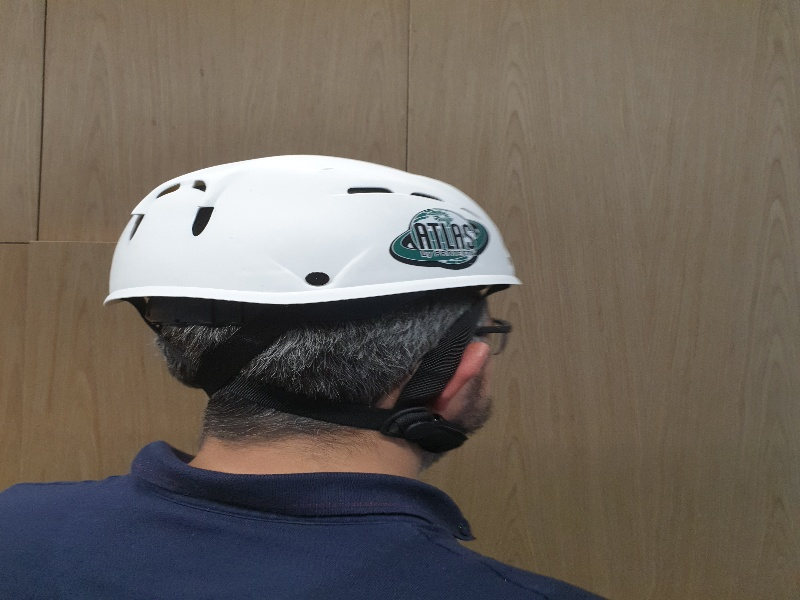Baret: (103, 161, 523, 302)
